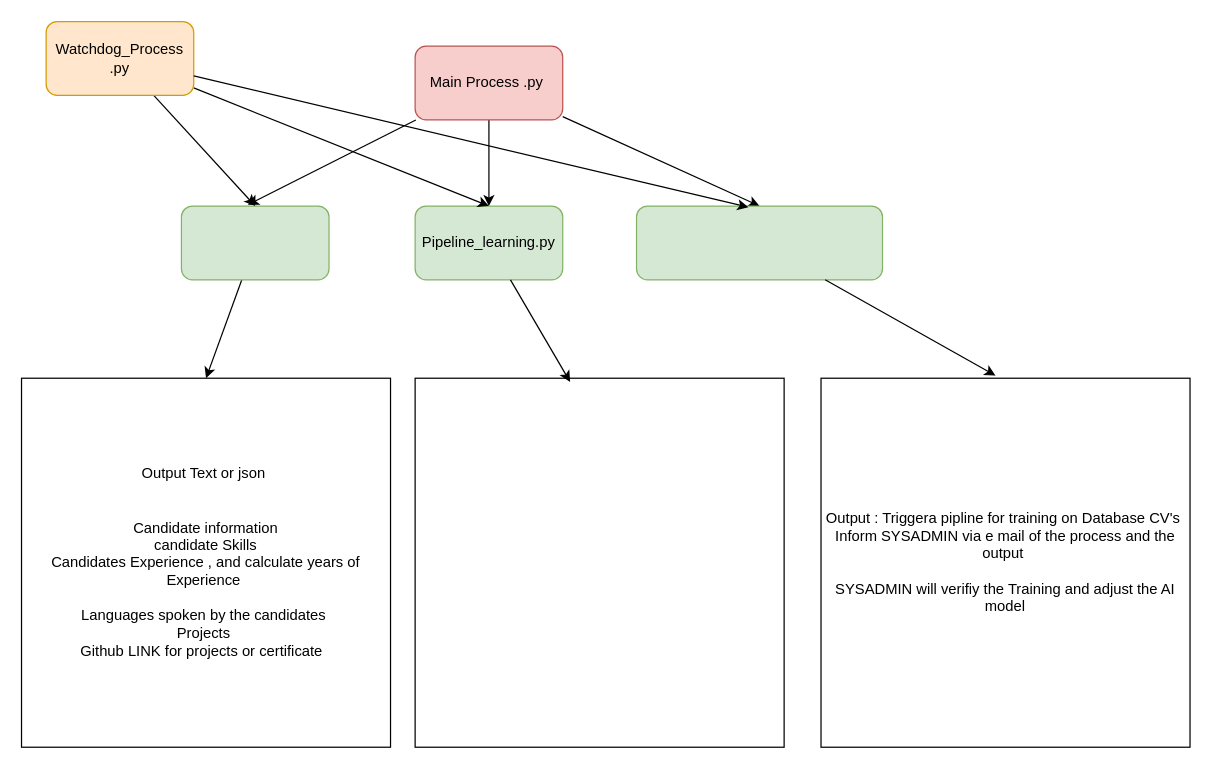
This 1212x769 diagram has some shape labels left out. The shapes that lost their labels are listed below. From the top down, each one's centre as x and y in pixels, then its label:
the point at 254,242: API_CV_PARSING.py
the point at 759,242: Database_CV_Parsing.py
the point at 599,562: Output : Pipeline Link for the Training Process
